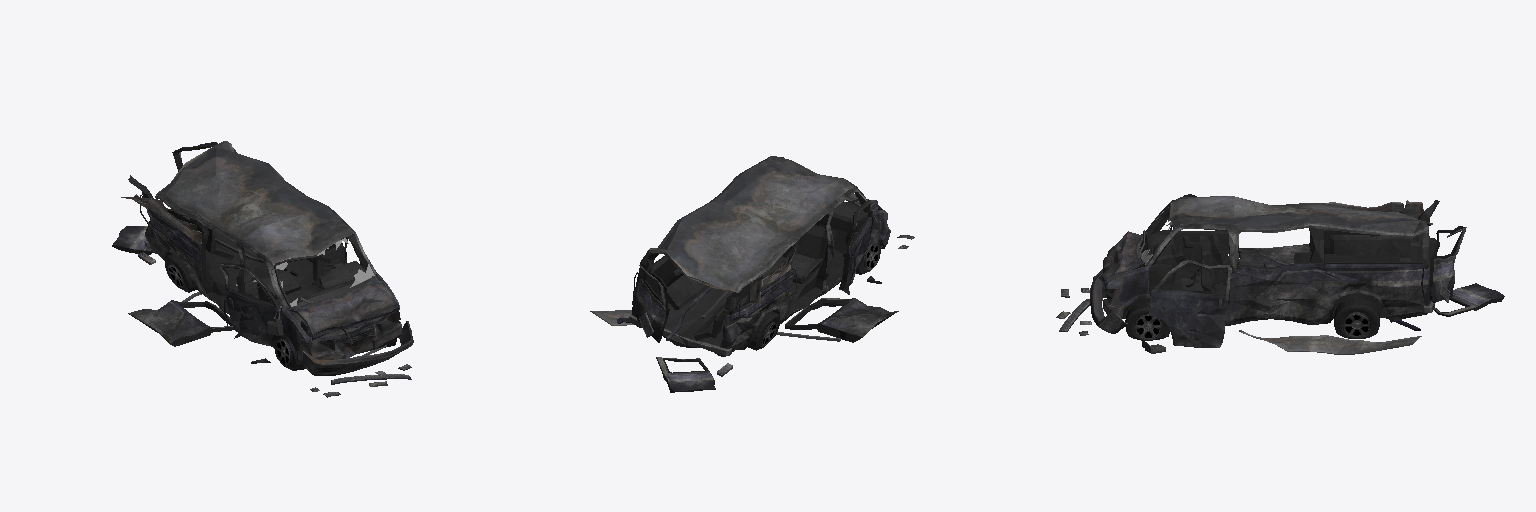
The picture shows the model from 3 angles: view 1: azimuth 30°, elevation 25°; view 2: azimuth 150°, elevation 25°; view 3: azimuth 270°, elevation 25°; orthographic projection.
Parts seen in each view (by area): view 1: SM_TC5car04_des; view 2: SM_TC5car04_des; view 3: SM_TC5car04_des.
Part boxes in pixels (x1,y1,x2,y2): SM_TC5car04_des: (112, 141, 413, 397); SM_TC5car04_des: (590, 156, 914, 392); SM_TC5car04_des: (1056, 194, 1504, 354).
Size of the model in its own units: 498 by 235 by 867.
Materials: 3 (2 with a texture image).